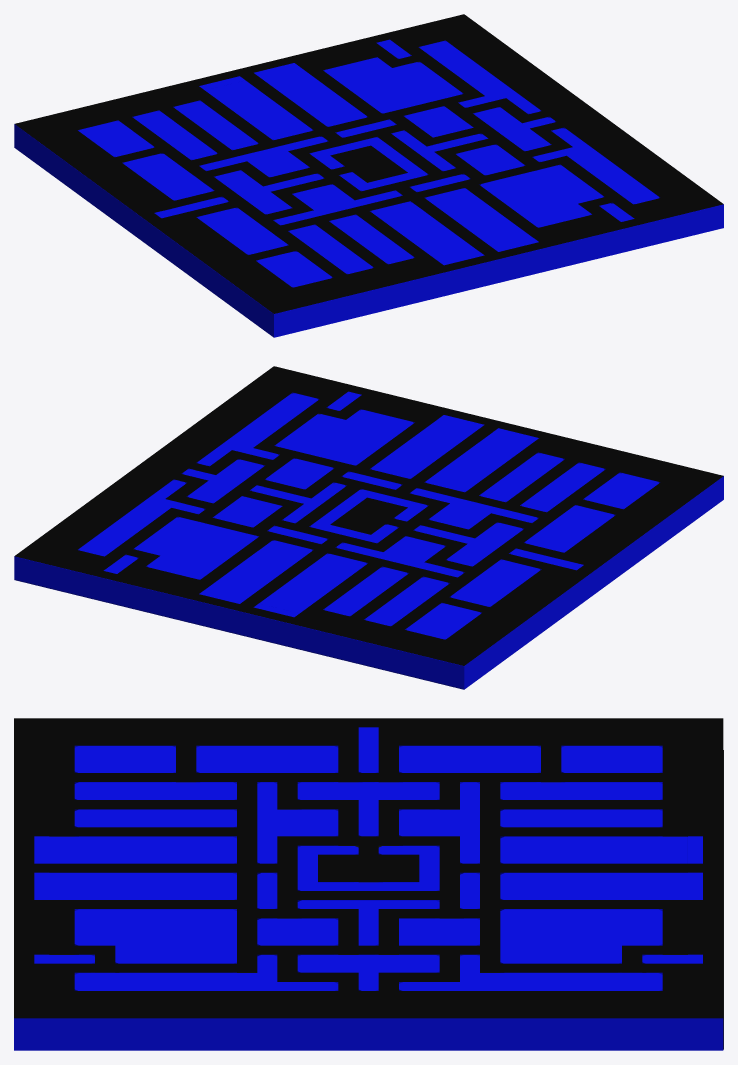
Rendered from Maze.fbx.
3 renders of one model, top to bottom at view 1: azimuth 30°, elevation 25°; view 2: azimuth 150°, elevation 25°; view 3: azimuth 270°, elevation 25°, orthographic. The views are drawn at different scales.
Parts seen in each view (by area): view 1: Walls, Ceiling; view 2: Walls, Ceiling; view 3: Walls, Ceiling, Floor.
Part boxes in pixels (x1,y1,x2,y2): Walls: (14, 39, 723, 337); Ceiling: (15, 14, 723, 313); Walls: (14, 391, 723, 689); Ceiling: (14, 366, 723, 665); Walls: (14, 727, 723, 1050); Ceiling: (14, 718, 723, 1018); Floor: (49, 750, 723, 1049).
Size of the model in its own units: 2000 by 101 by 2002.
